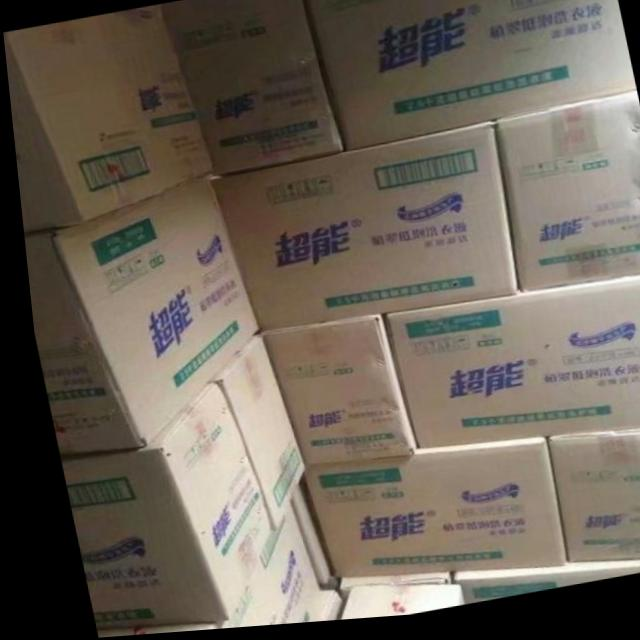box: (19, 175, 251, 455), (205, 127, 512, 334), (303, 0, 632, 156), (53, 384, 259, 629), (3, 6, 207, 231), (375, 283, 640, 453), (294, 444, 552, 582), (159, 0, 340, 179), (489, 99, 640, 300), (82, 504, 308, 638), (252, 319, 406, 469), (199, 335, 295, 534), (535, 437, 640, 569), (439, 567, 640, 609), (280, 478, 319, 588), (326, 590, 450, 624), (326, 578, 439, 609), (296, 594, 331, 626)
